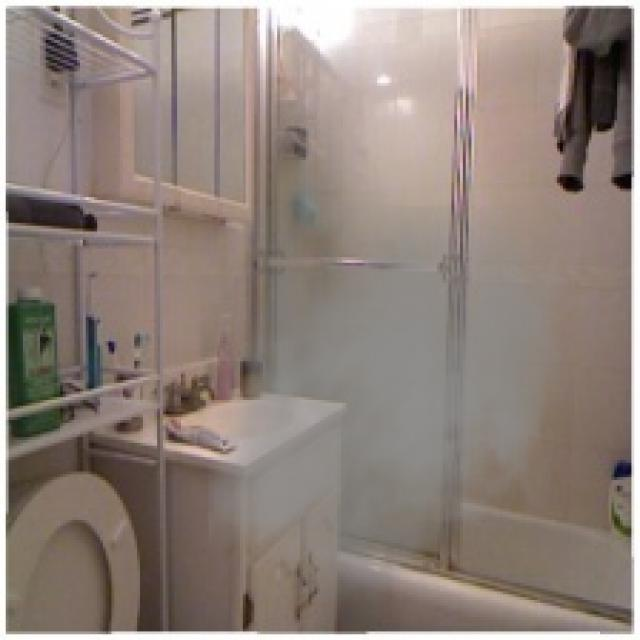smoke: (208, 206, 566, 617)
